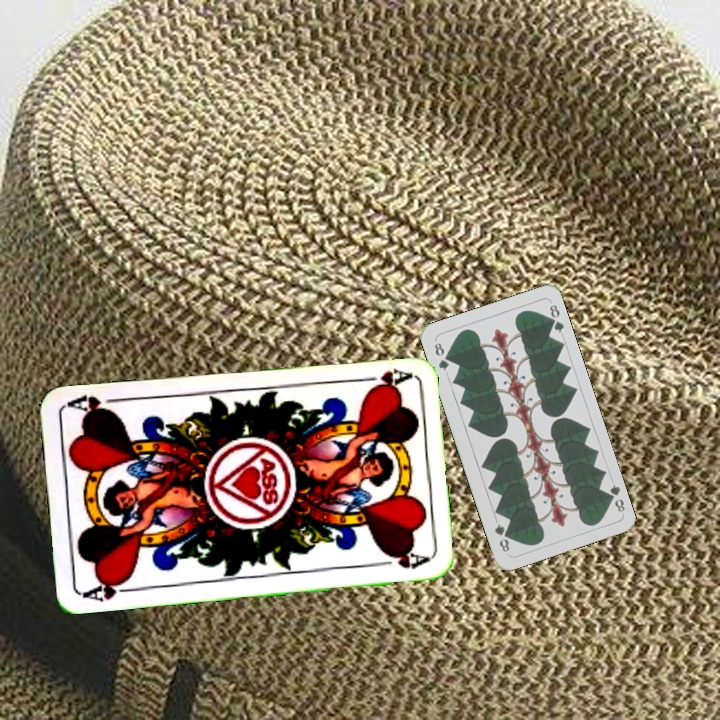G8: (602, 480, 628, 515), (430, 338, 451, 374)
HA: (81, 573, 140, 604), (352, 364, 412, 392)
